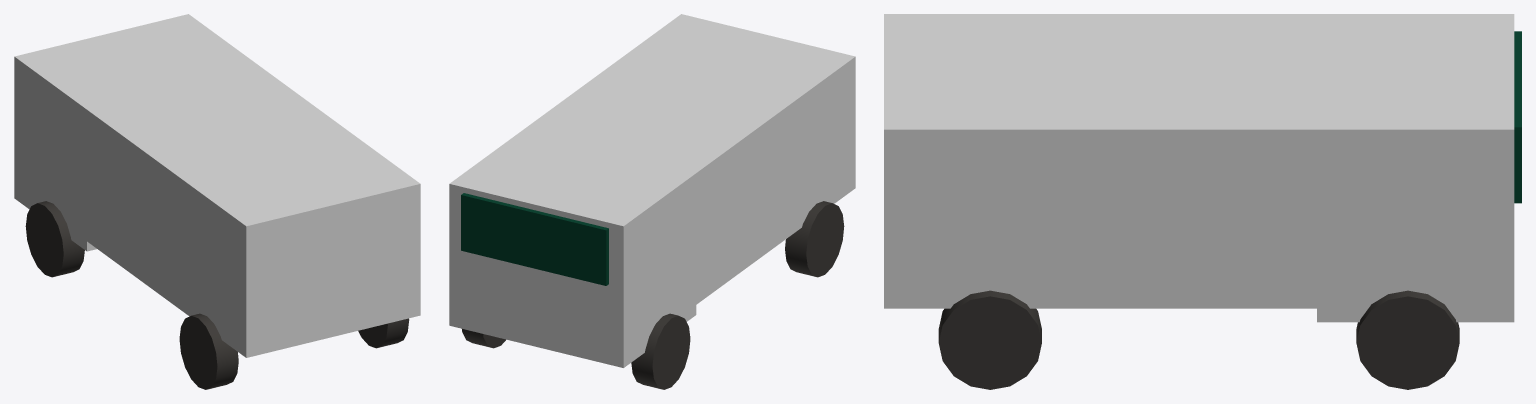
The model's file is electric_van.glb.
3 views of the same model, side by side, from view 1: azimuth 30°, elevation 25°; view 2: azimuth 150°, elevation 25°; view 3: azimuth 270°, elevation 25° (orthographic). The views are drawn at different scales.
Parts seen in each view (by area): view 1: cargo_white, cab_white, instance_ink; view 2: cargo_white, cab_white, windscreen_darkgreen, instance_ink; view 3: cargo_white, cab_white, instance_ink, windscreen_darkgreen.
Part boxes in pixels (box(x1,y1,x2,y2)): cargo_white: box(45, 36, 420, 357); cab_white: box(14, 14, 260, 251); instance_ink: box(25, 201, 409, 389); cargo_white: box(480, 14, 855, 325); cab_white: box(449, 135, 696, 367); windscreen_darkgreen: box(461, 193, 608, 285); instance_ink: box(462, 201, 844, 389); cargo_white: box(884, 14, 1430, 308); cab_white: box(1317, 14, 1514, 322); instance_ink: box(938, 290, 1459, 389); windscreen_darkgreen: box(1514, 31, 1521, 203).
Size of the model in its own units: 1.98 by 1.85 by 4.2.
